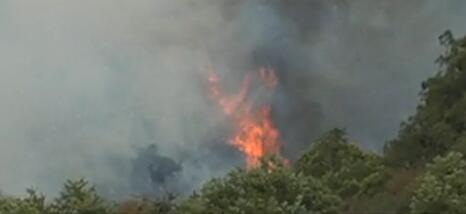fire: (198, 63, 288, 174)
yanwu: (1, 1, 410, 190)
